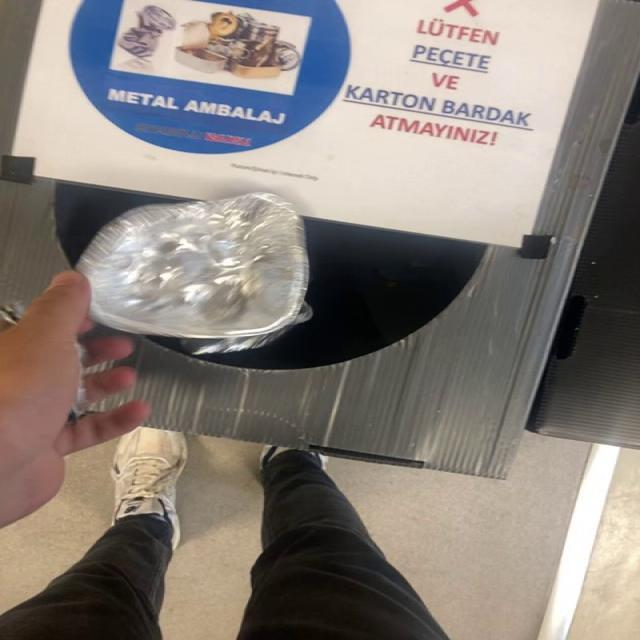Metal: (76, 193, 312, 354)
